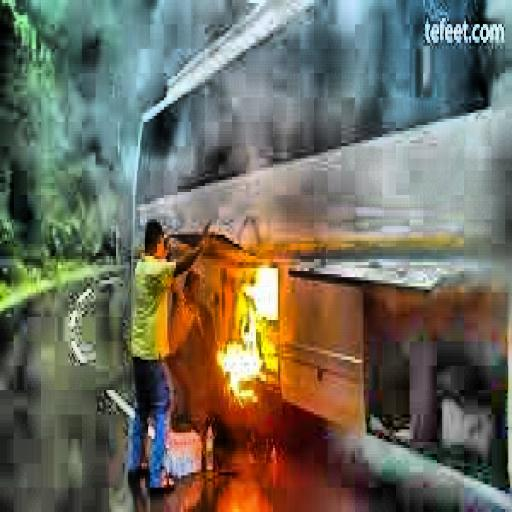fire: (200, 240, 298, 418)
